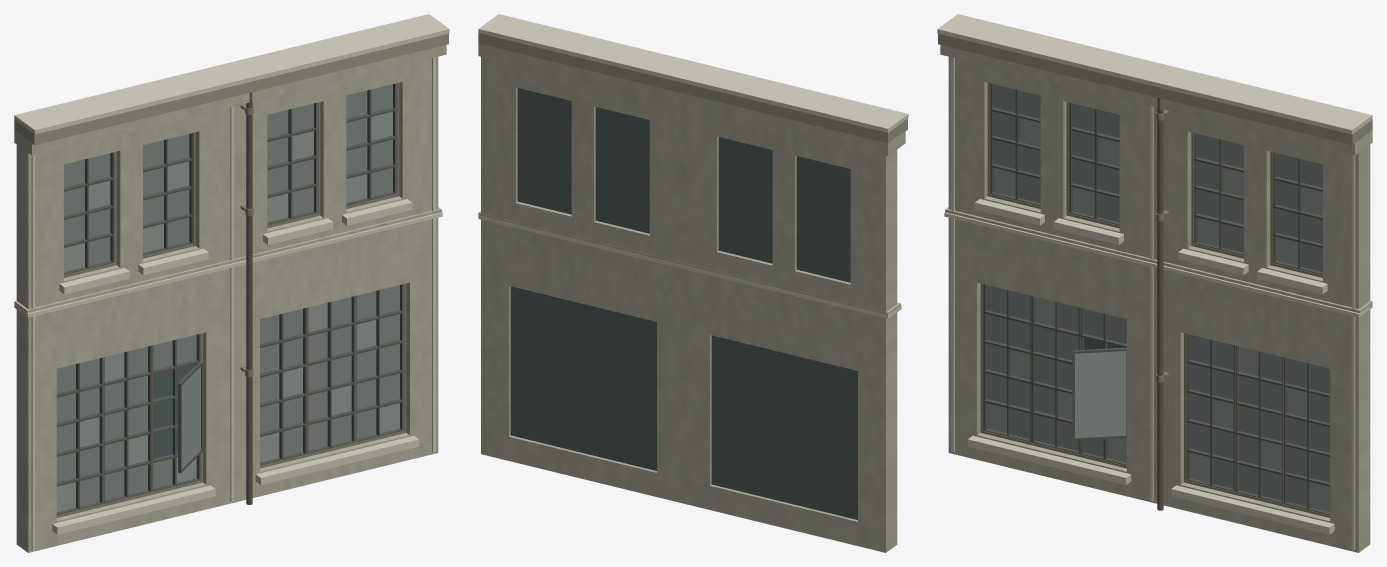
The model's file is fuzhou-37-upper-steel-windows-near.glb.
3 views of the same model, side by side, from view 1: azimuth 30°, elevation 25°; view 2: azimuth 150°, elevation 25°; view 3: azimuth 330°, elevation 25° (orthographic).
Parts seen in each view (by area): view 1: 美商卫利韩公司楼顶层双列窄窗与宽钢窗; view 2: 美商卫利韩公司楼顶层双列窄窗与宽钢窗; view 3: 美商卫利韩公司楼顶层双列窄窗与宽钢窗.
Boxes of the visible parts, <box> form: 美商卫利韩公司楼顶层双列窄窗与宽钢窗: <box>14,14,449,552</box>; 美商卫利韩公司楼顶层双列窄窗与宽钢窗: <box>478,14,908,552</box>; 美商卫利韩公司楼顶层双列窄窗与宽钢窗: <box>937,14,1372,552</box>.
Size of the model in its own units: 5.3 by 5.25 by 0.5725.
Materials: 10 (1 with a texture image).
